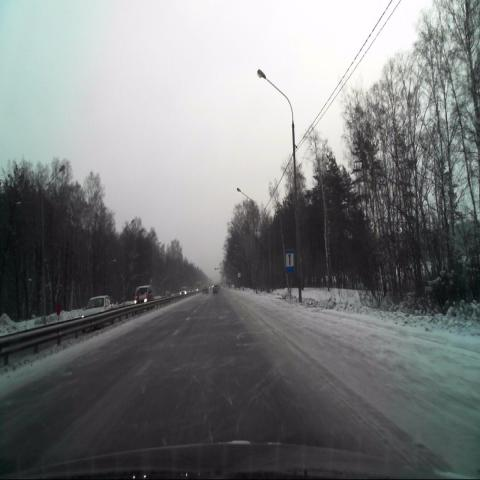7_4: (284, 248, 294, 273)
